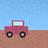vehicle: (5, 21, 28, 38)
